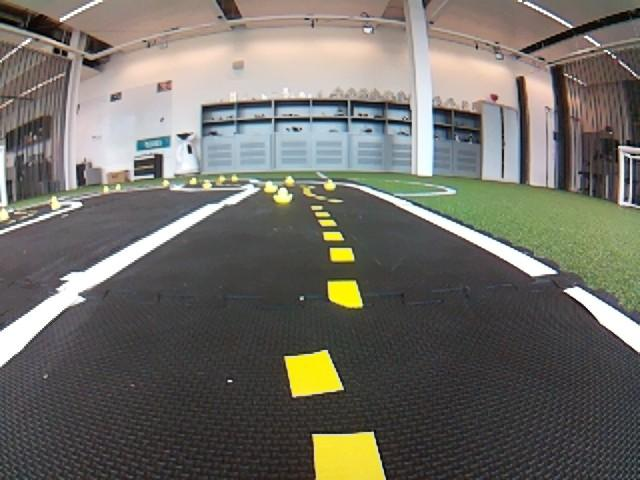Duckies: (273, 188, 293, 205), (49, 196, 61, 210), (263, 183, 278, 193), (324, 180, 337, 191), (284, 176, 295, 186), (1, 209, 10, 221), (201, 182, 213, 189), (216, 175, 225, 184), (162, 180, 170, 188), (103, 185, 109, 194), (190, 179, 198, 185), (231, 177, 239, 182), (115, 184, 120, 191)
